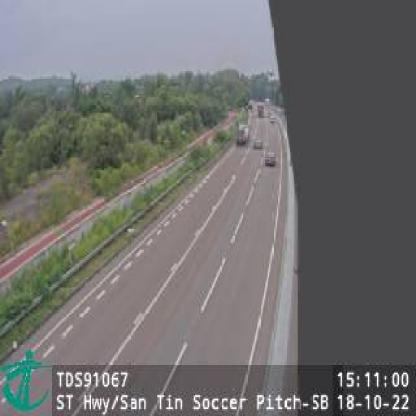Car: (264, 150, 277, 166), (254, 137, 264, 149)
Truck: (236, 122, 252, 146)
